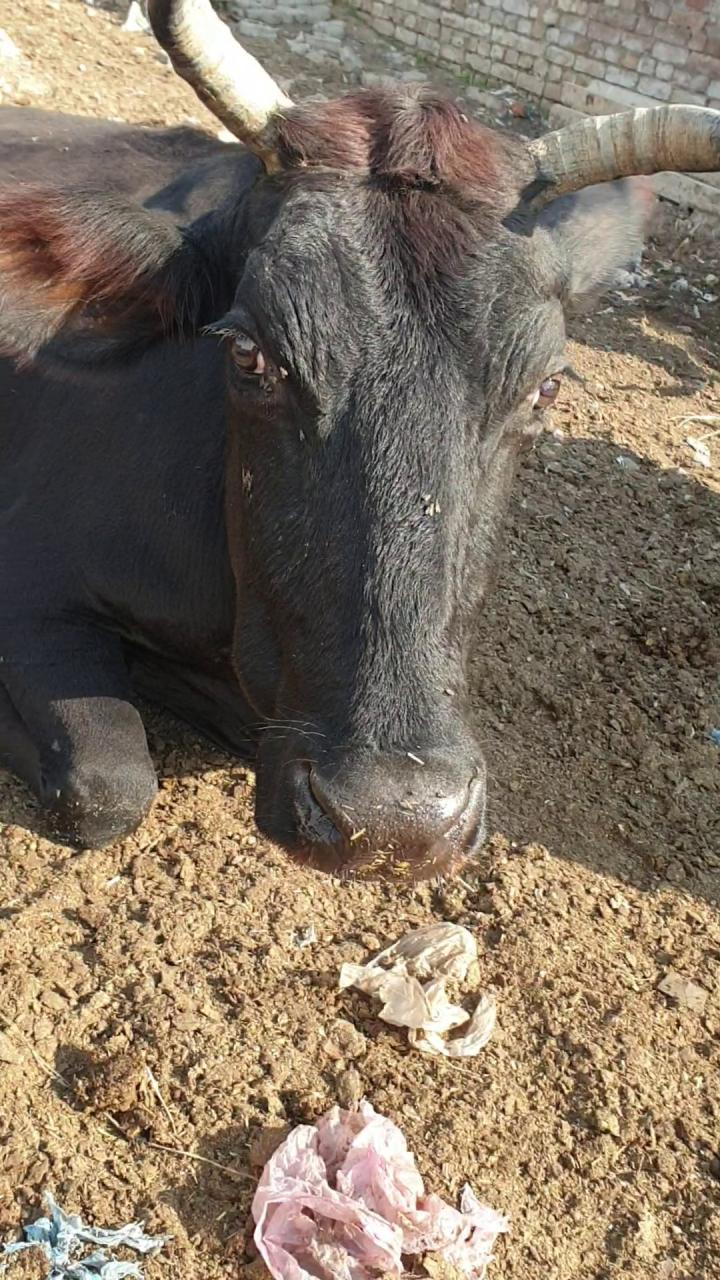cows: (225, 140, 568, 918)
